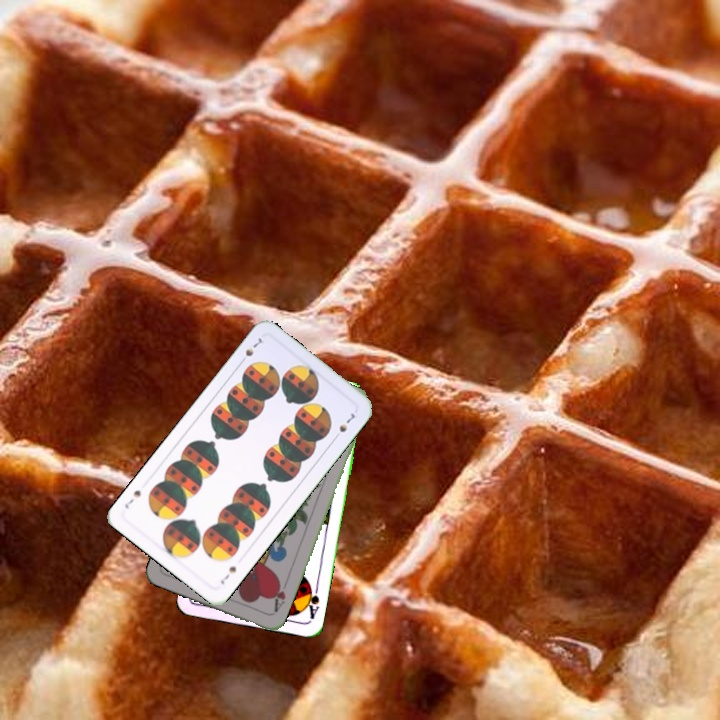HA: (268, 576, 290, 616)
S7: (235, 333, 265, 367), (216, 562, 239, 587)
SA: (301, 581, 322, 621)
